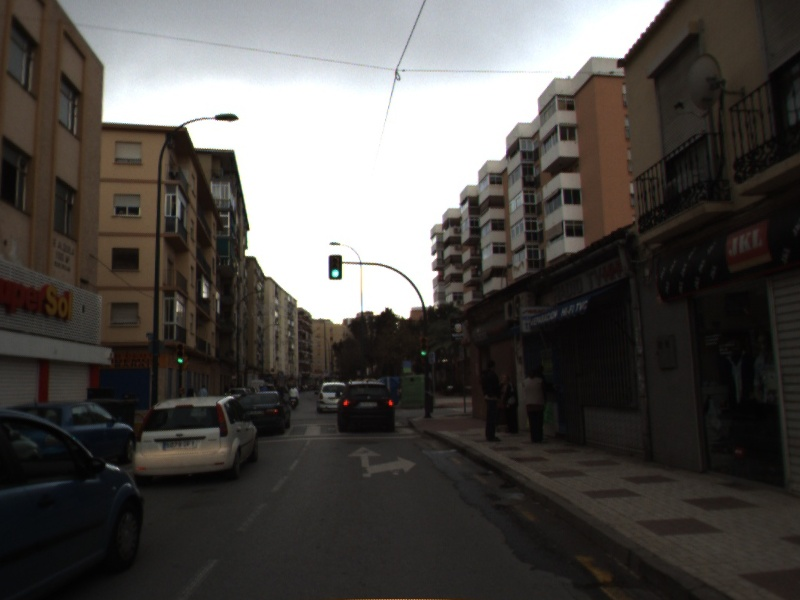STRAIGHT_RIGHT: (345, 444, 419, 479)
